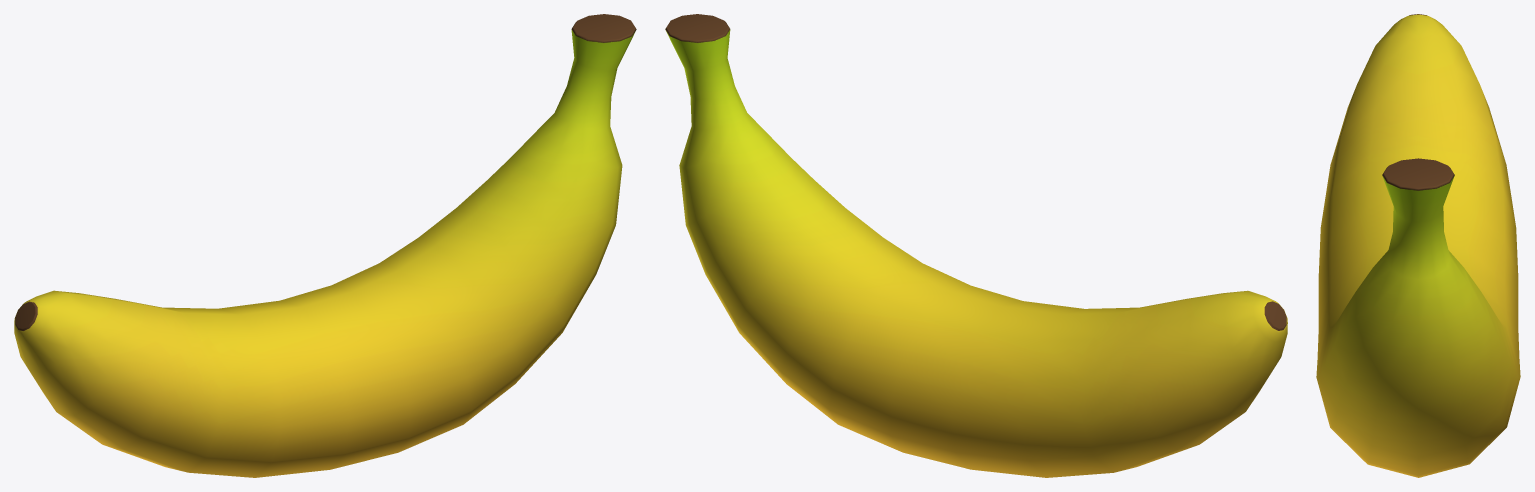
File: Banana.glb
The picture shows the model from 3 angles, left to right: view 1: azimuth 30°, elevation 25°; view 2: azimuth 150°, elevation 25°; view 3: azimuth 270°, elevation 25°; orthographic projection. The views are drawn at different scales.
Parts seen in each view (by area): view 1: Banana; view 2: Banana; view 3: Banana.
Part boxes in pixels (<box>): Banana: <box>14,14,636,477</box>; Banana: <box>665,14,1287,477</box>; Banana: <box>1316,14,1520,477</box>.
Size of the model in its own units: 0.0961 by 0.0545 by 0.0248.
1 material, 1 textured.
